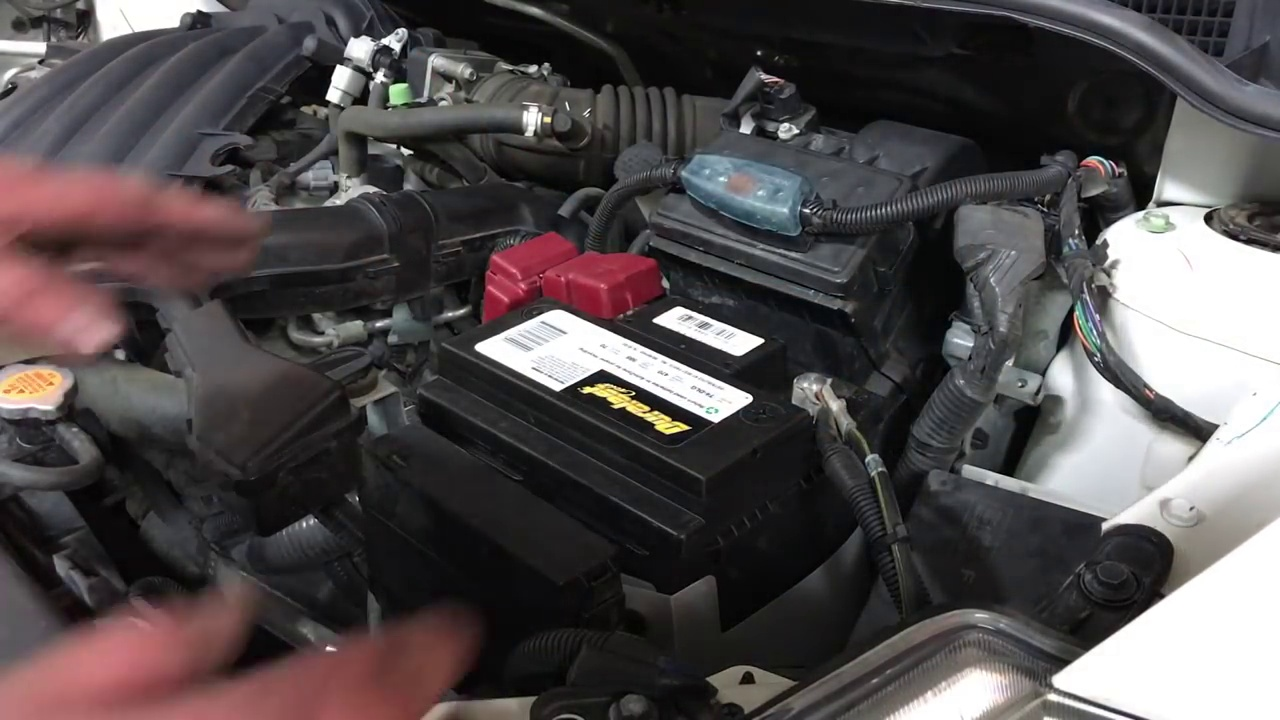battery: (435, 262, 865, 491)
neg_connected: (772, 354, 894, 457)
pos_connected: (469, 242, 670, 330)
